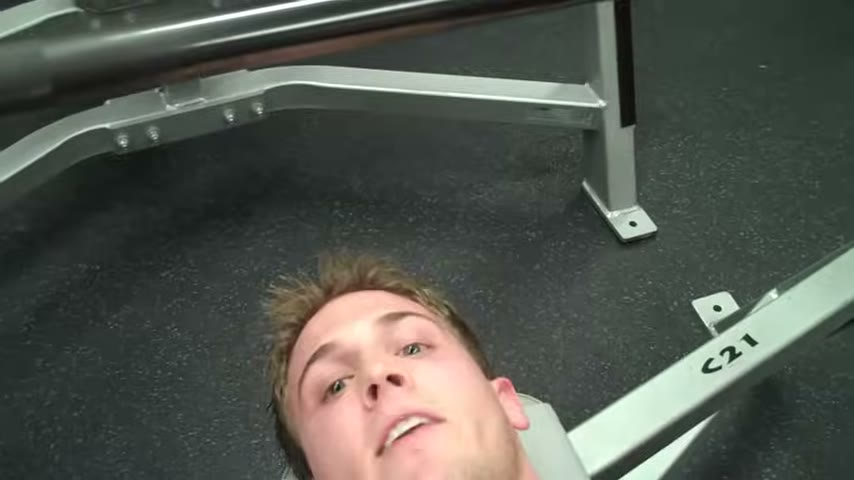barbell_plate_side: (0, 0, 86, 444)
